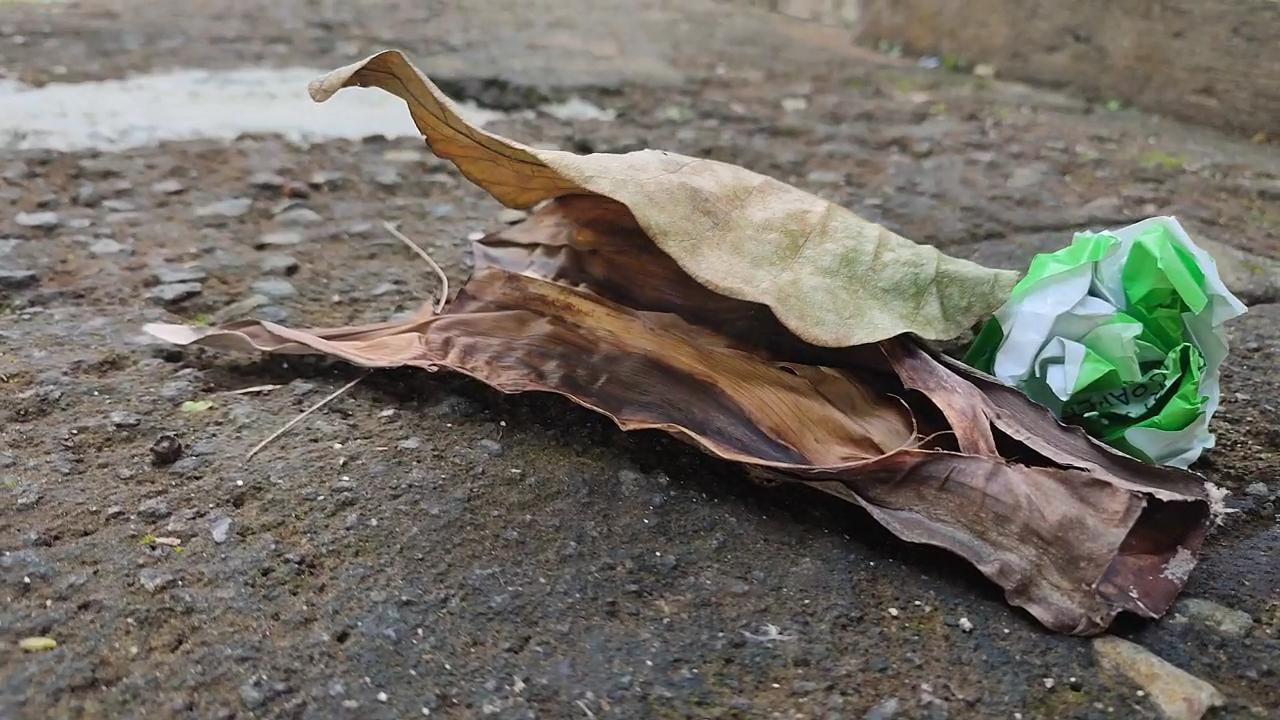Paper: (985, 207, 1244, 479)
